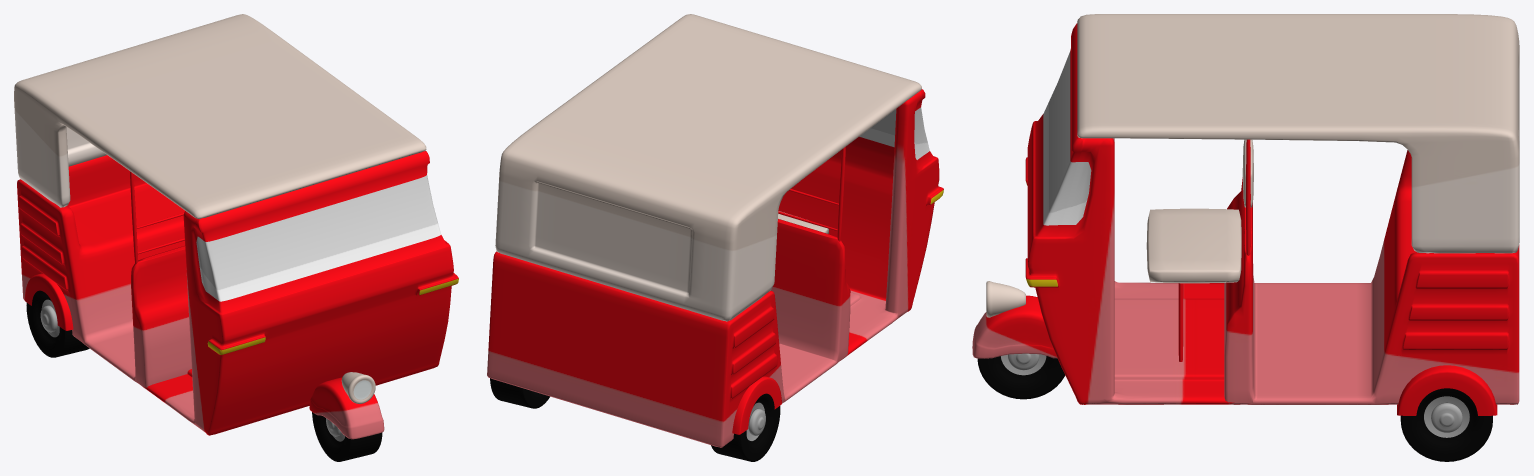
Rendered from rickshaw@card.fbx.
The picture shows the model from 3 angles, left to right: view 1: azimuth 30°, elevation 25°; view 2: azimuth 150°, elevation 25°; view 3: azimuth 270°, elevation 25°; orthographic projection. The views are drawn at different scales.
Visible parts, largest first — view 1: rickshaw:polySurface1, rickshaw:polySurface5; view 2: rickshaw:polySurface1, rickshaw:polySurface5; view 3: rickshaw:polySurface1, rickshaw:polySurface5.
Boxes of the visible parts, <box> form: rickshaw:polySurface1: <box>14,14,458,435</box>; rickshaw:polySurface5: <box>24,273,384,461</box>; rickshaw:polySurface1: <box>487,14,943,447</box>; rickshaw:polySurface5: <box>490,376,781,461</box>; rickshaw:polySurface1: <box>1025,14,1519,404</box>; rickshaw:polySurface5: <box>972,281,1497,461</box>.
Bounding box in the file's own units: 6.3 × 6.47 × 9.99.
